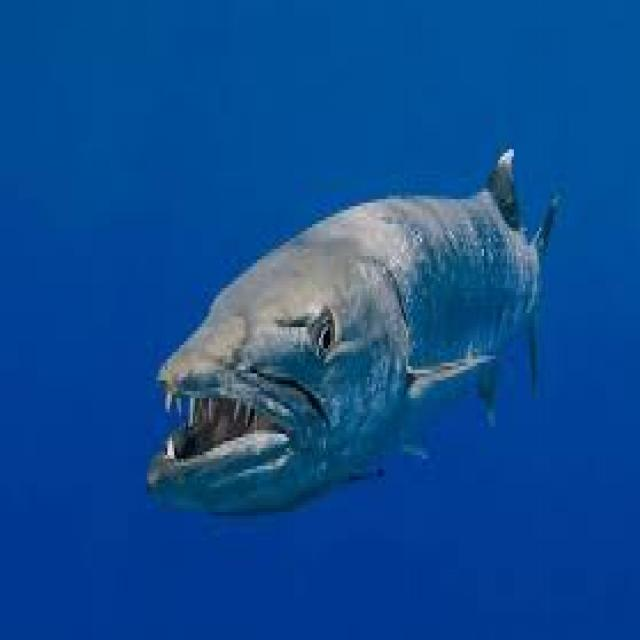Barracuda: (142, 139, 567, 519)
